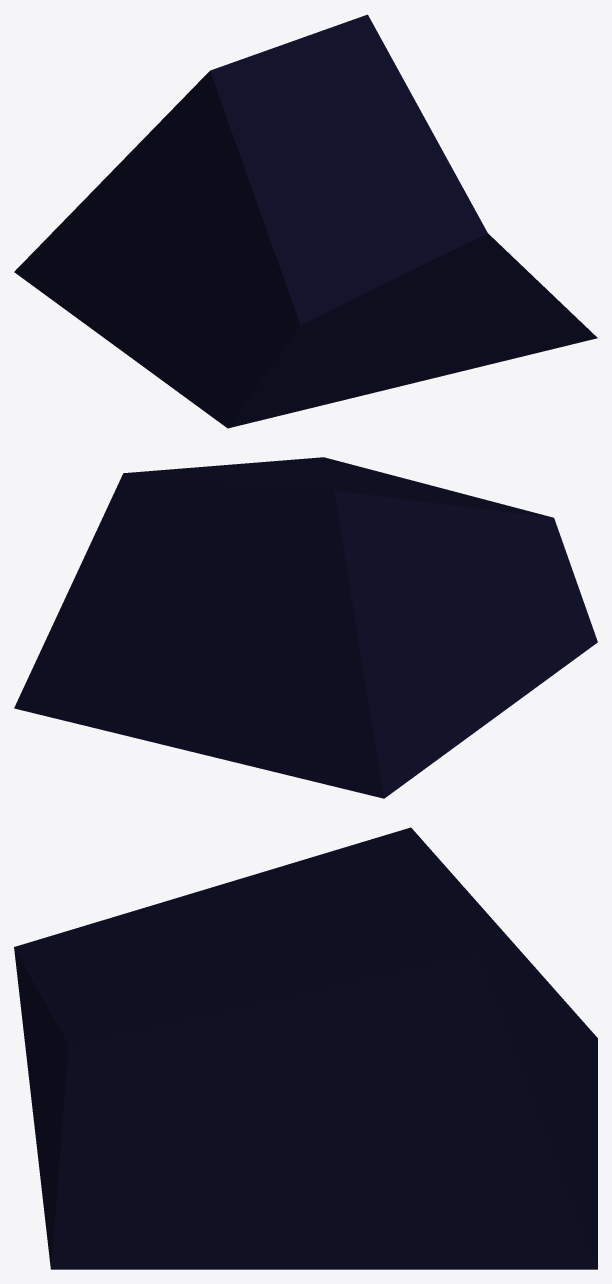
The model's file is rock03.fbx.
3 views of the same model, one above another, from view 1: azimuth 30°, elevation 25°; view 2: azimuth 150°, elevation 25°; view 3: azimuth 270°, elevation 25° (orthographic). The views are drawn at different scales.
Visible parts, largest first — view 1: rock01; view 2: rock01; view 3: rock01.
Part boxes in pixels (x1,y1,x2,y2): rock01: [14, 14, 597, 428]; rock01: [14, 457, 597, 798]; rock01: [14, 827, 597, 1269].
Bounding box in the file's own units: 36.63 × 21.26 × 39.1.
